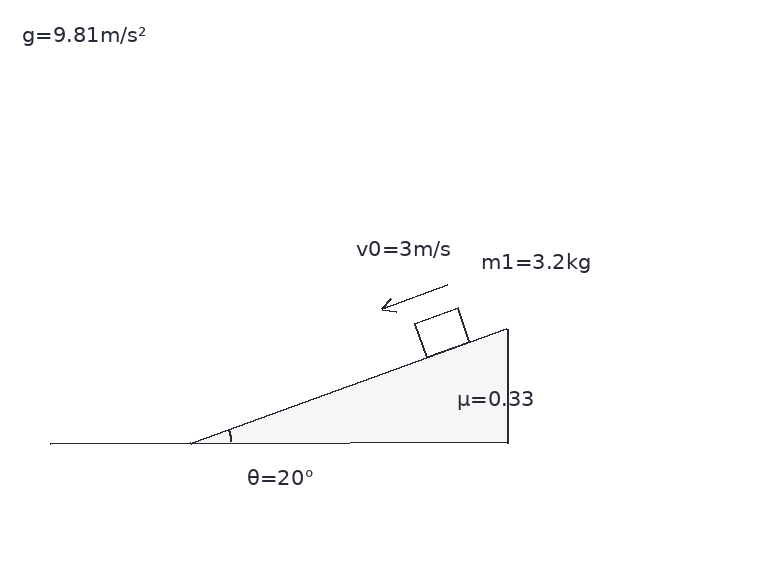block: (412, 307, 472, 358)
ramp: (189, 325, 509, 444)
